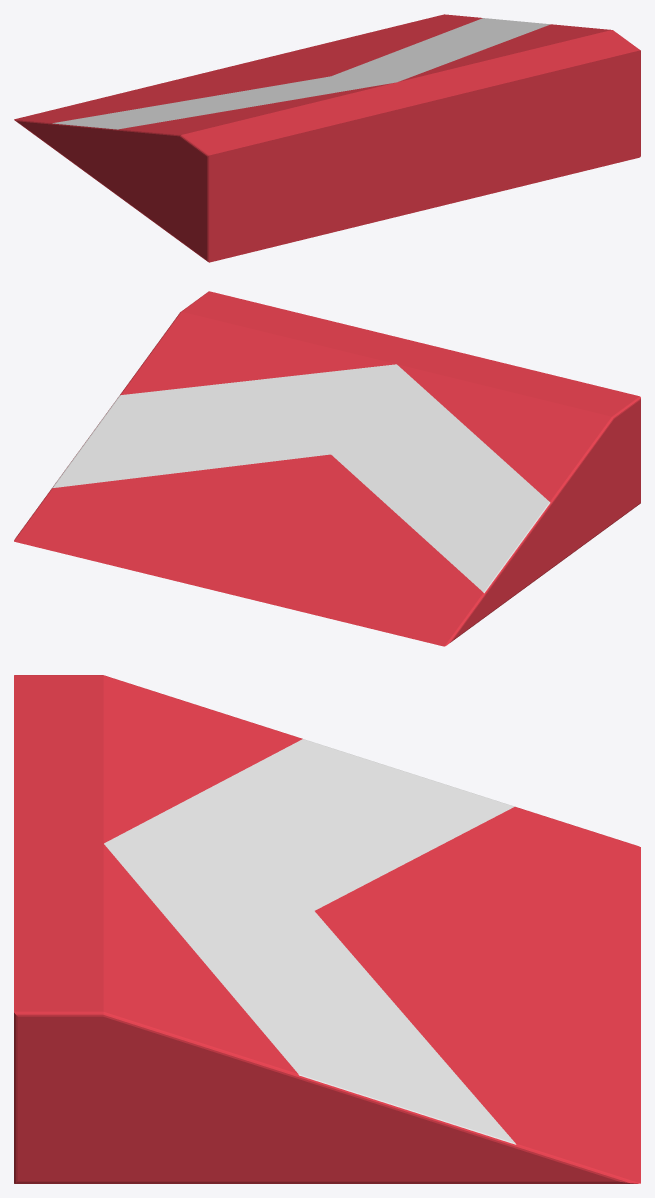
Rendered from Ramp.fbx.
The picture shows the model from 3 angles, top to bottom: view 1: azimuth 30°, elevation 25°; view 2: azimuth 150°, elevation 25°; view 3: azimuth 270°, elevation 25°; orthographic projection. The views are drawn at different scales.
Parts seen in each view (by area): view 1: Cube; view 2: Cube; view 3: Cube.
Part boxes in pixels (<box>): Cube: <box>14,14,640,262</box>; Cube: <box>14,291,640,646</box>; Cube: <box>14,675,640,1183</box>.
Size of the model in its own units: 4.68 by 1.1 by 3.65.
